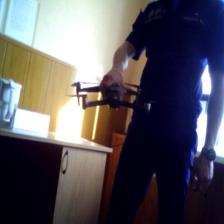drone: (66, 65, 159, 119)
